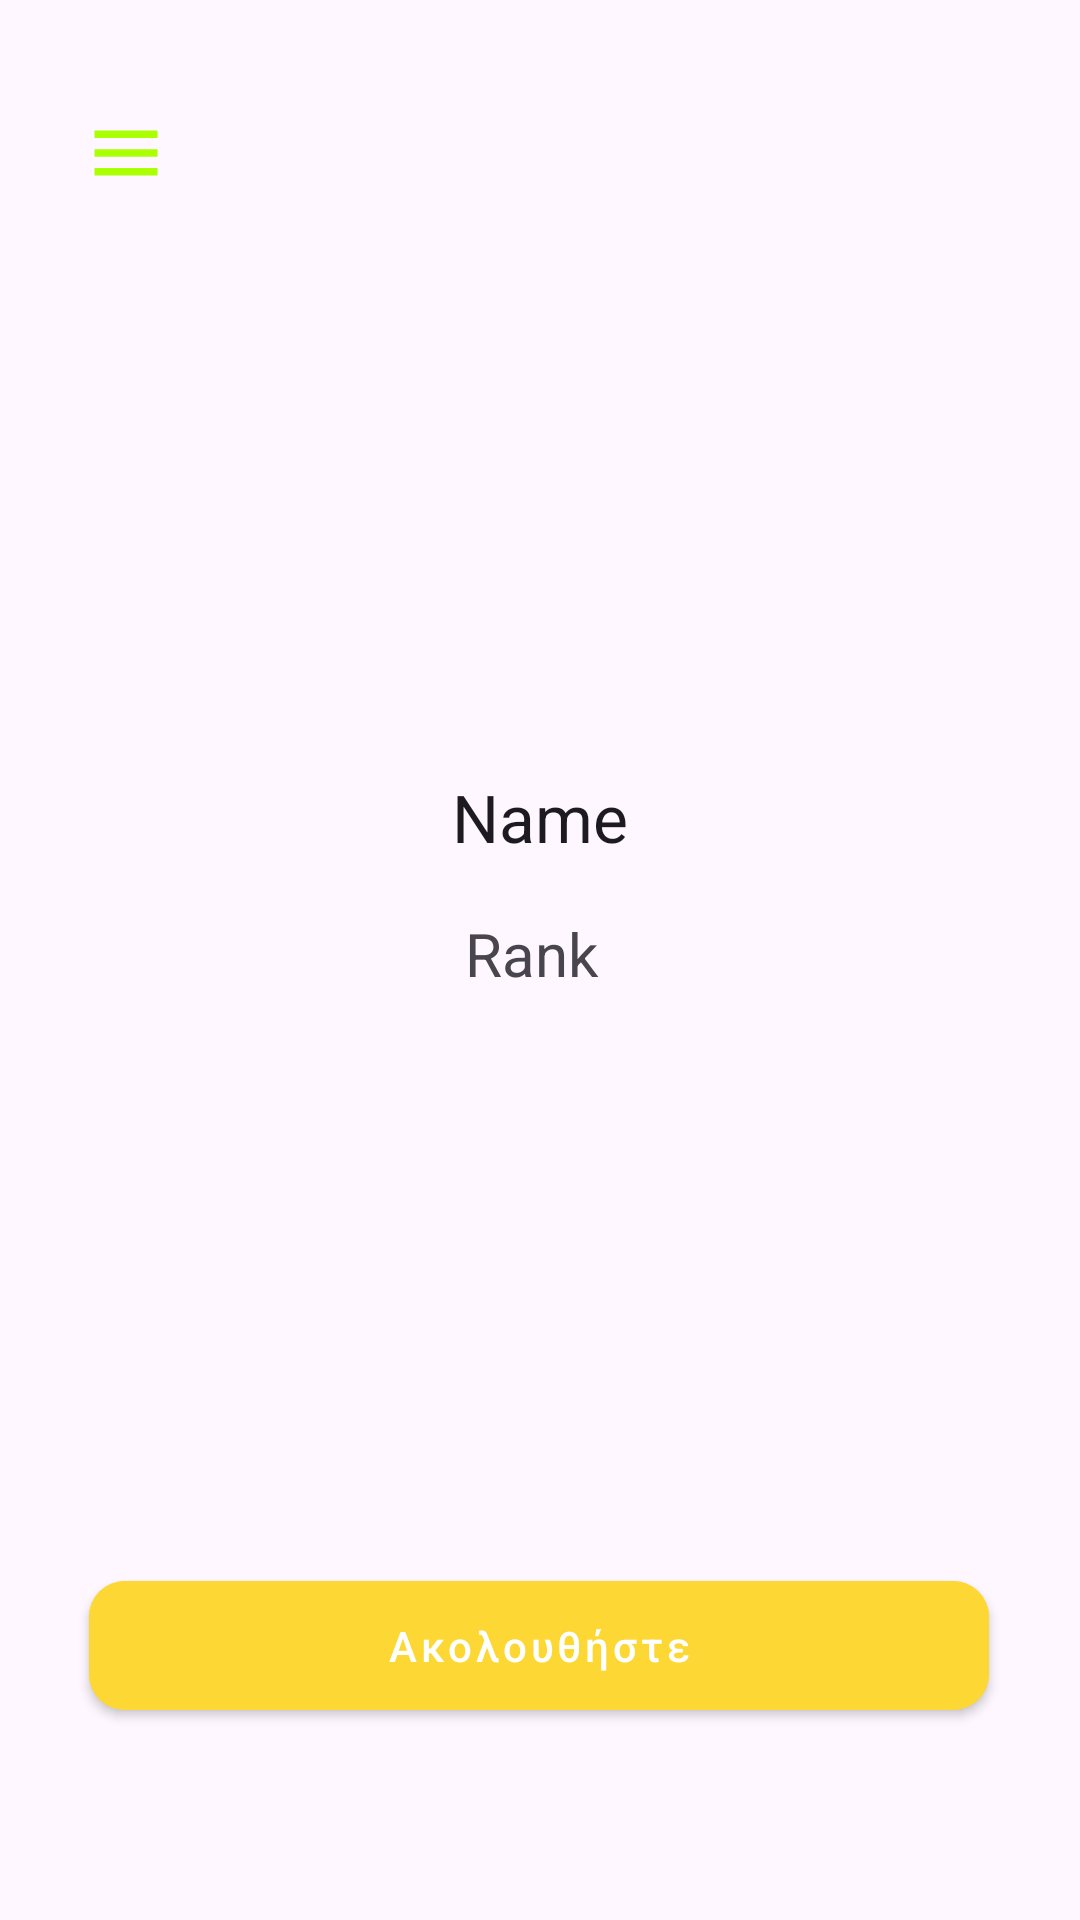

Screen size 1080px×1920px. Icon name, then its center in pixels as [x,y]:
Menu: [126,153]
